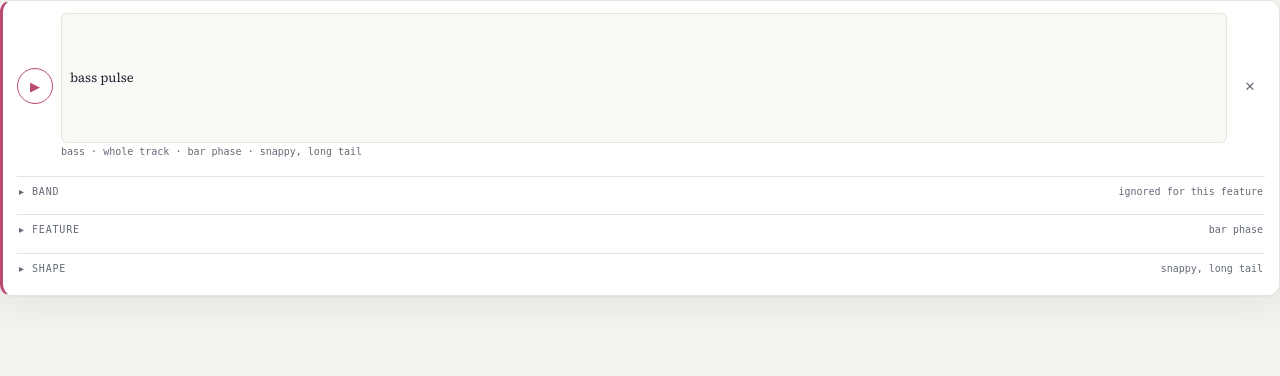
Test: SignalCardView › disables the band fields for a tempo-locked feature and says why
Click the button with class "sig-sec-head" that starts with "band" at coordinates (1191, 191), box [17,176,1265,206]
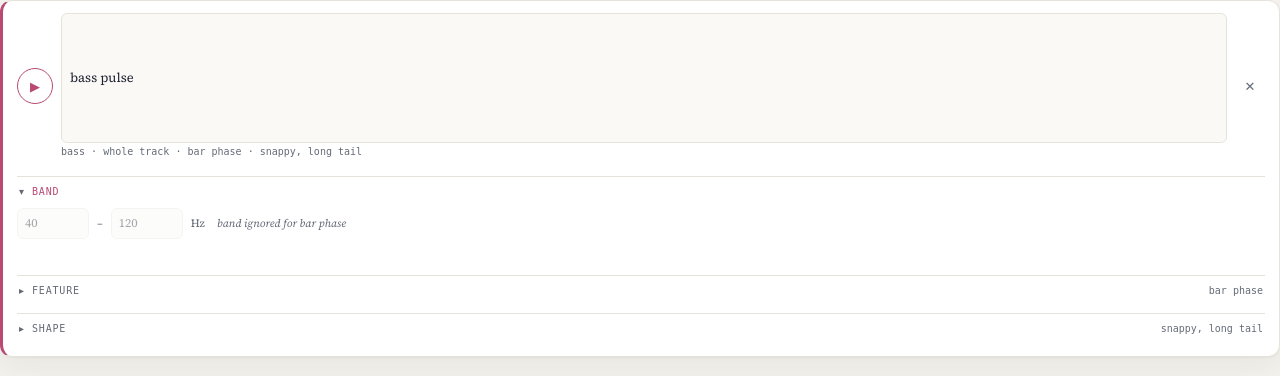
Check: the number field named "band low" is disabled, box [17,208,89,239]
Check: the text with class "hz-note" shows "band ignored", box [217,216,300,231]
